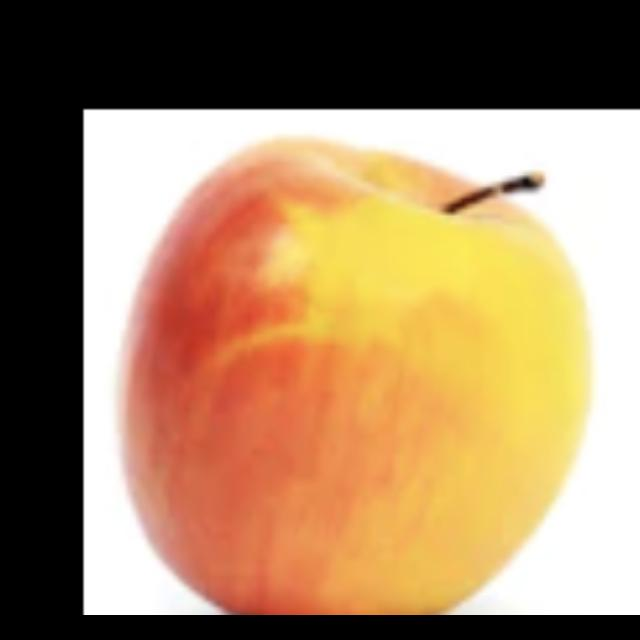Apel Segar: (111, 137, 586, 615)
